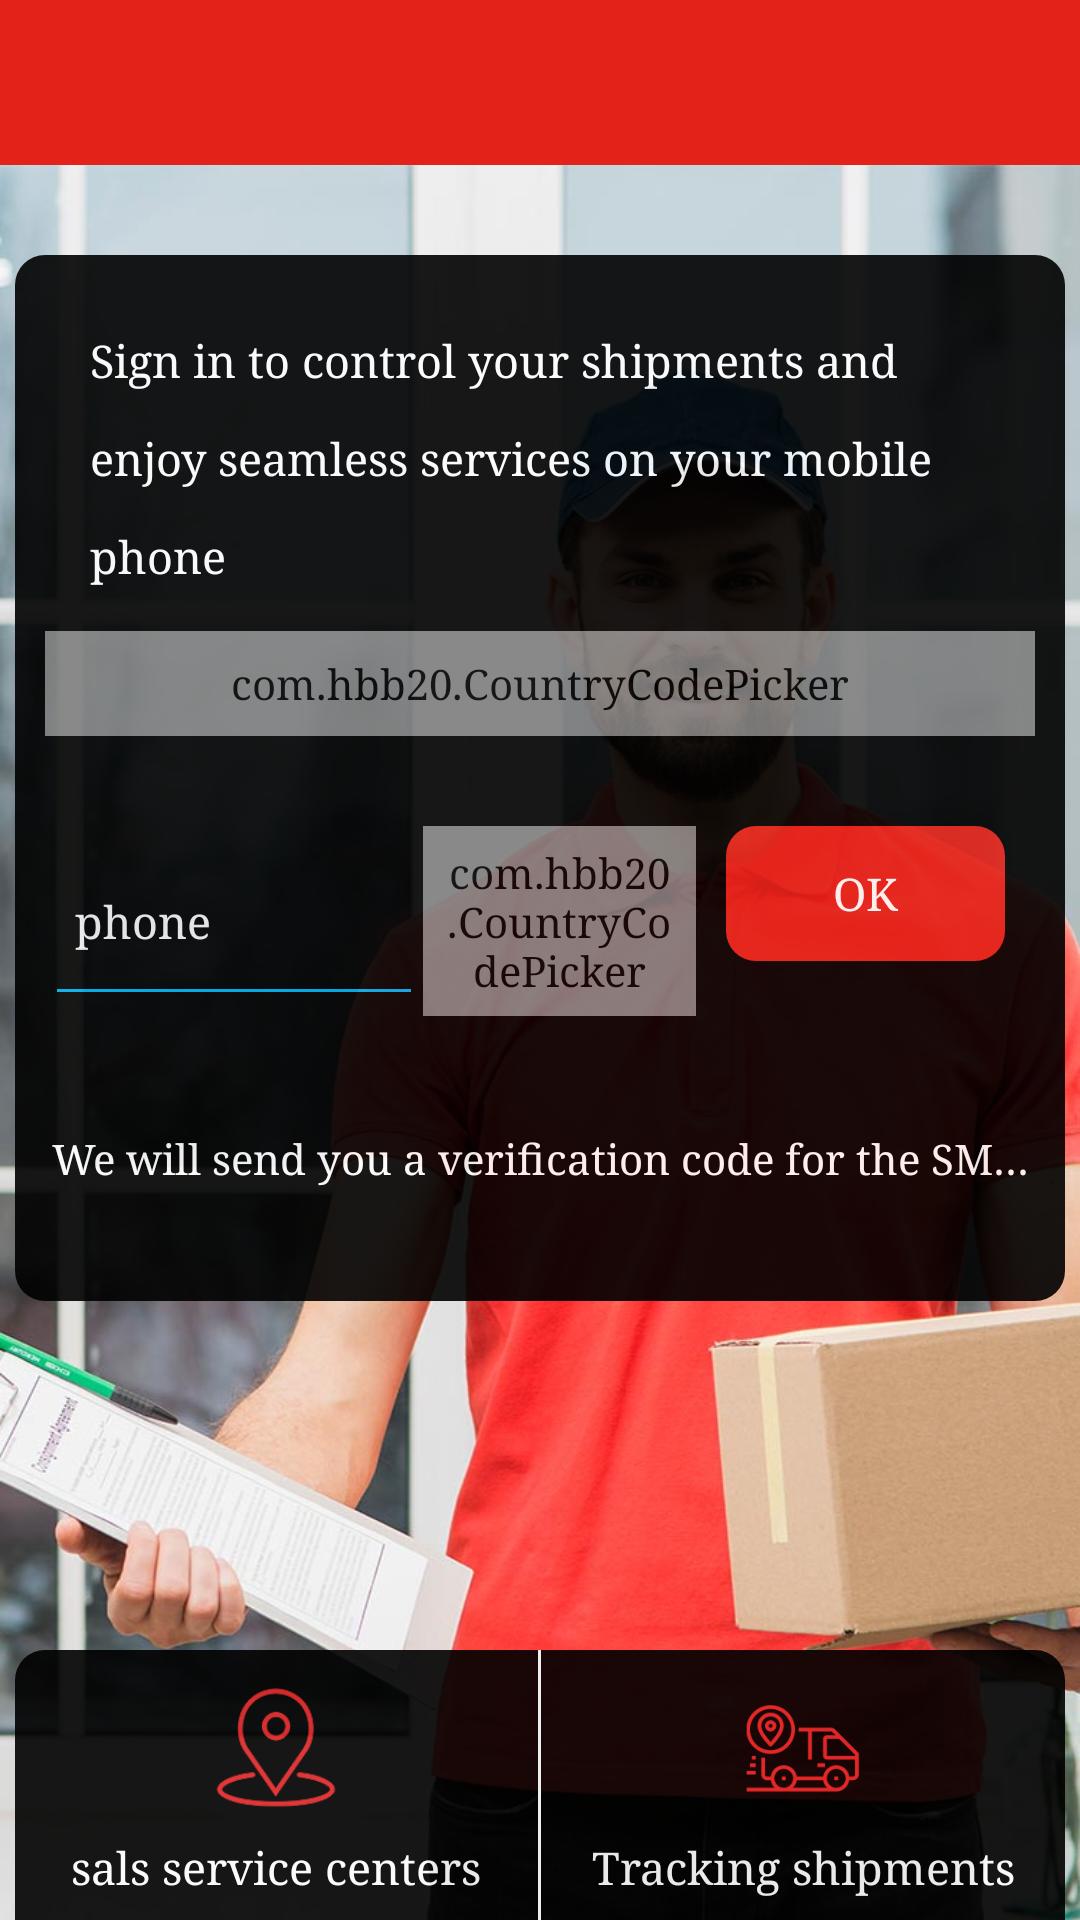

Where to tap for icons on this 1080 × 1920 app screen, as [x,y]:
location: [276,1747]
